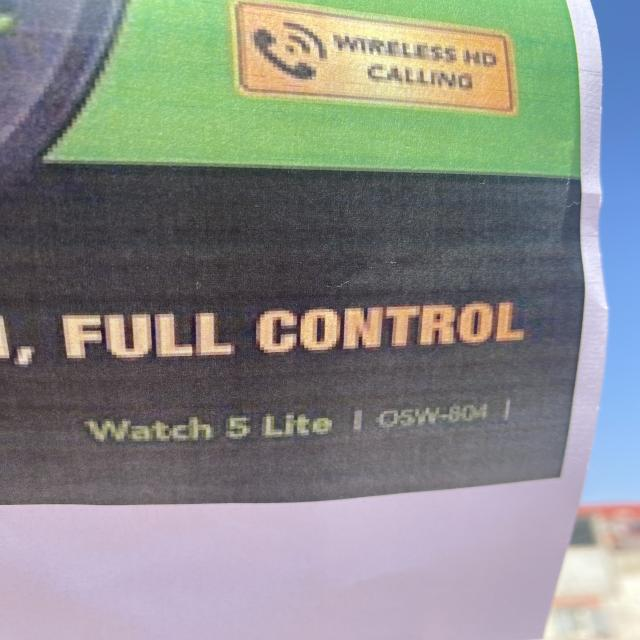Watch 5 Lite OSW-804: (74, 390, 545, 450)
